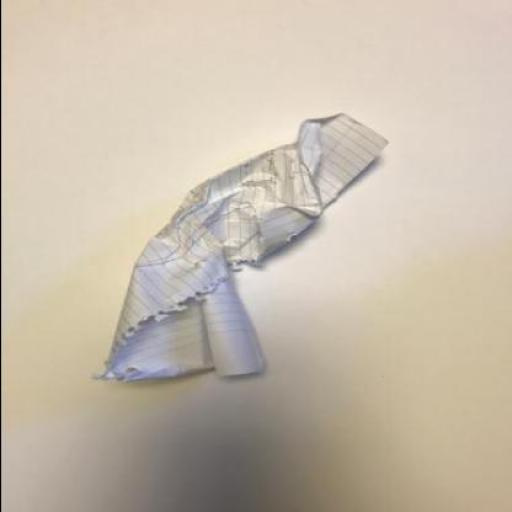paper: (94, 113, 388, 381)
